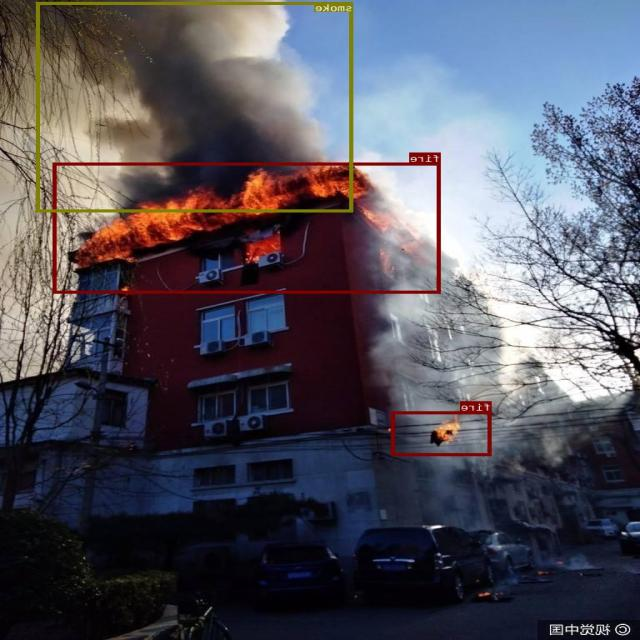fire: (54, 162, 441, 293), (392, 411, 492, 455)
smoke: (37, 2, 354, 211)
